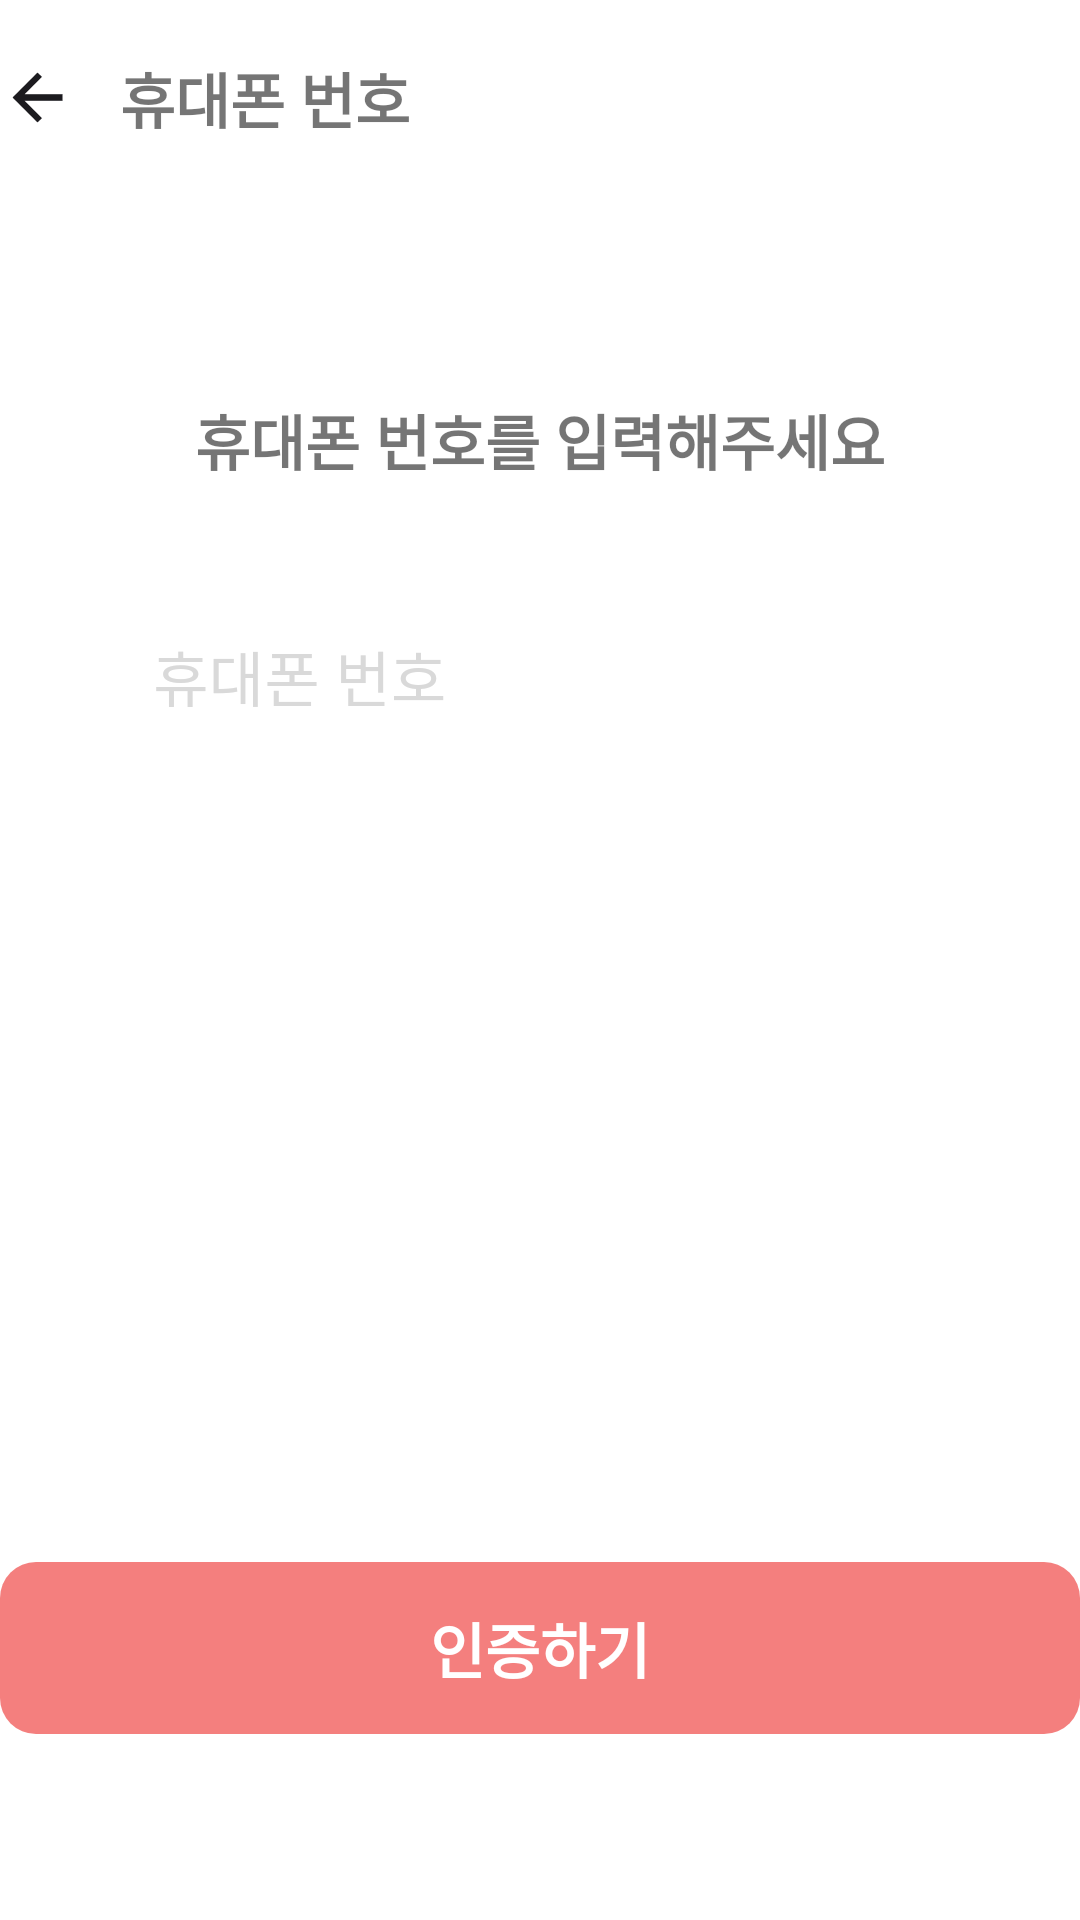

Icons on this 1080px×1920px Android screen, each with its box as (x1, y1, x2, y2):
back: (12, 72, 63, 123)
